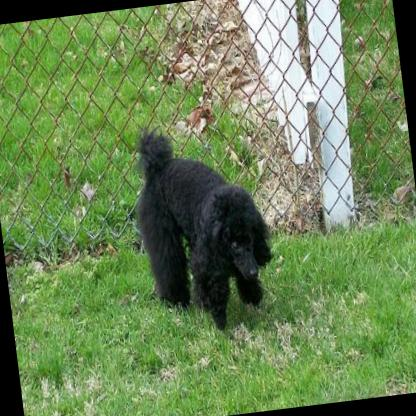toy_poodle: (121, 108, 282, 340)
